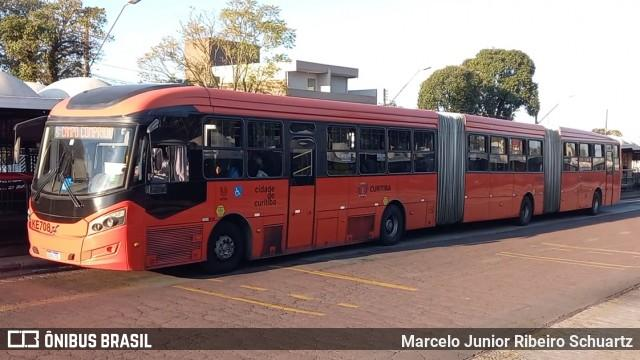CAMPO COMPRIDO: (60, 125, 116, 142)
